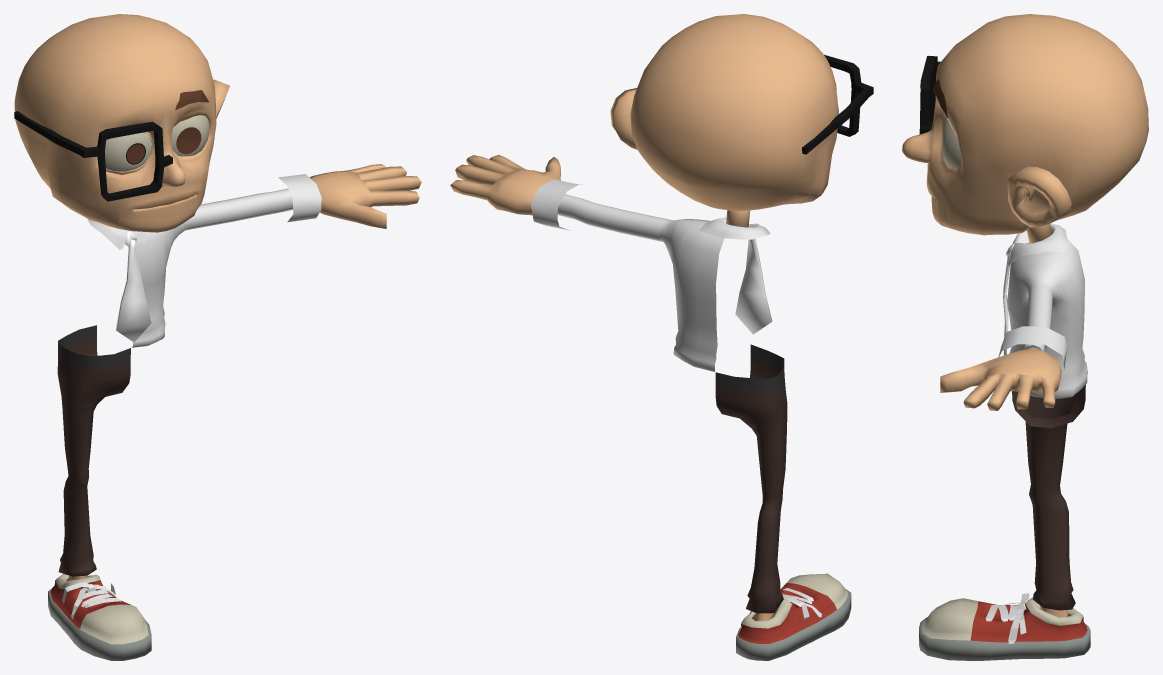
The model's file is cartoon_01.glb.
3 views of the same model, side by side, from view 1: azimuth 30°, elevation 25°; view 2: azimuth 150°, elevation 25°; view 3: azimuth 270°, elevation 25° (orthographic). The views are drawn at different scales.
Visible parts, largest first — view 1: Cylinder.002, Cube.005, Cube.001, Cube.002, Cube.006, Plane.002, Cube.003, Cube.012, Cube.007, Cube.011, Cylinder.003; view 2: Cylinder.002, Cube.001, Cube.005, Cube.002, Cube.006, Cube.003, Plane.002, Cube.007, Cylinder.001, Cylinder.003, Cube.008; view 3: Cylinder.002, Cube.001, Cube.005, Cube.002, Cube.006, Cylinder.001, Cylinder.003, Plane.002, Cube.008, Cube.011.
Boxes of the visible parts, x1=… form: Cylinder.002: x1=14, y1=14, x2=216, y2=232; Cube.005: x1=57, y1=337, x2=130, y2=576; Cube.001: x1=131, y1=174, x2=321, y2=347; Cube.002: x1=48, y1=578, x2=151, y2=660; Cube.006: x1=310, y1=164, x2=421, y2=228; Plane.002: x1=14, y1=111, x2=172, y2=201; Cube.003: x1=115, y1=239, x2=151, y2=342; Cube.012: x1=105, y1=132, x2=151, y2=171; Cube.007: x1=58, y1=325, x2=130, y2=368; Cube.011: x1=171, y1=115, x2=209, y2=156; Cylinder.003: x1=87, y1=219, x2=147, y2=249; Cylinder.002: x1=630, y1=14, x2=838, y2=211; Cube.001: x1=531, y1=179, x2=724, y2=371; Cube.005: x1=715, y1=359, x2=787, y2=613; Cube.002: x1=736, y1=573, x2=851, y2=660; Cube.006: x1=450, y1=155, x2=560, y2=215; Cube.003: x1=735, y1=238, x2=772, y2=334; Plane.002: x1=802, y1=54, x2=873, y2=154; Cube.007: x1=715, y1=344, x2=784, y2=391; Cylinder.001: x1=610, y1=88, x2=637, y2=149; Cylinder.003: x1=699, y1=217, x2=770, y2=239; Cube.008: x1=741, y1=597, x2=792, y2=628; Cylinder.002: x1=902, y1=14, x2=1148, y2=235; Cube.001: x1=998, y1=239, x2=1087, y2=398; Cube.005: x1=1012, y1=385, x2=1085, y2=610; Cube.002: x1=919, y1=598, x2=1090, y2=660; Cube.006: x1=940, y1=347, x2=1061, y2=410; Cylinder.001: x1=1007, y1=166, x2=1071, y2=227; Cylinder.003: x1=1008, y1=223, x2=1067, y2=265; Plane.002: x1=919, y1=56, x2=940, y2=135; Cube.008: x1=1025, y1=597, x2=1083, y2=625; Cube.011: x1=943, y1=117, x2=961, y2=168.
Bounding box in the file's own units: 3.09 × 4.71 × 1.65.
